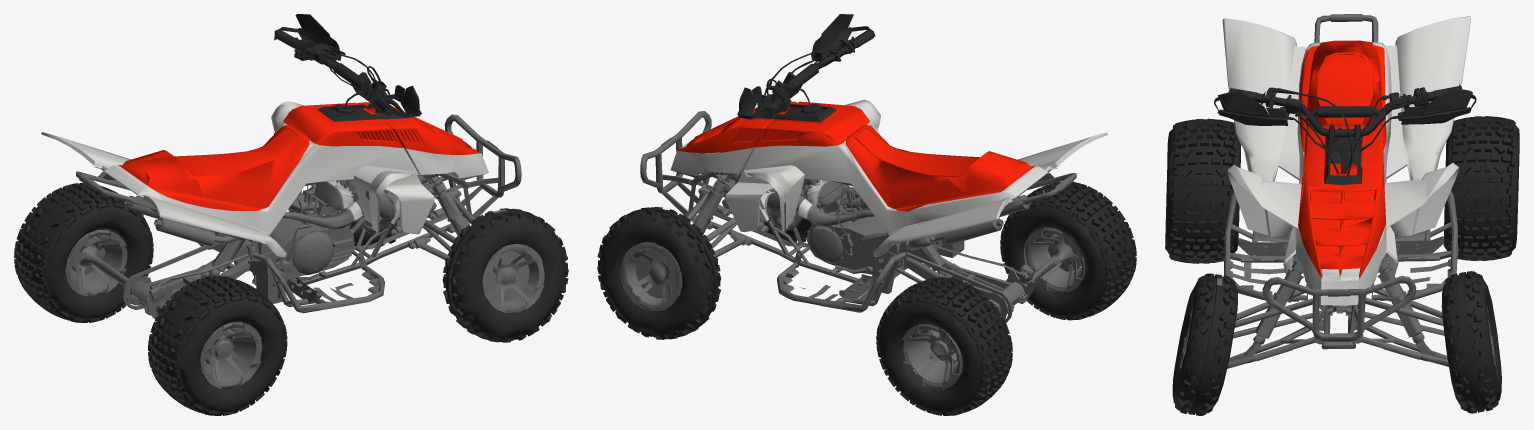
The model's file is quadriciclo.glb.
3 views of the same model, side by side, from view 1: azimuth 30°, elevation 25°; view 2: azimuth 150°, elevation 25°; view 3: azimuth 270°, elevation 25° (orthographic). The views are drawn at different scales.
Visible parts, largest first — view 1: Object_5, Object_2, Object_3, Object_4; view 2: Object_5, Object_2, Object_3, Object_4; view 3: Object_5, Object_3, Object_2, Object_4.
Part boxes in pixels (x1=…): Object_5: x1=14, y1=14, x2=568, y2=415; Object_2: x1=65, y1=114, x2=544, y2=389; Object_3: x1=41, y1=101, x2=488, y2=257; Object_4: x1=118, y1=102, x2=480, y2=210; Object_5: x1=597, y1=14, x2=1136, y2=415; Object_2: x1=620, y1=111, x2=1085, y2=389; Object_3: x1=670, y1=99, x2=1107, y2=256; Object_4: x1=677, y1=101, x2=1034, y2=211; Object_5: x1=1165, y1=83, x2=1519, y2=415; Object_3: x1=1222, y1=16, x2=1470, y2=305; Object_2: x1=1180, y1=14, x2=1495, y2=368; Object_4: x1=1298, y1=40, x2=1386, y2=277.
Bounding box in the file's own units: 83.63 × 50 × 57.58.
